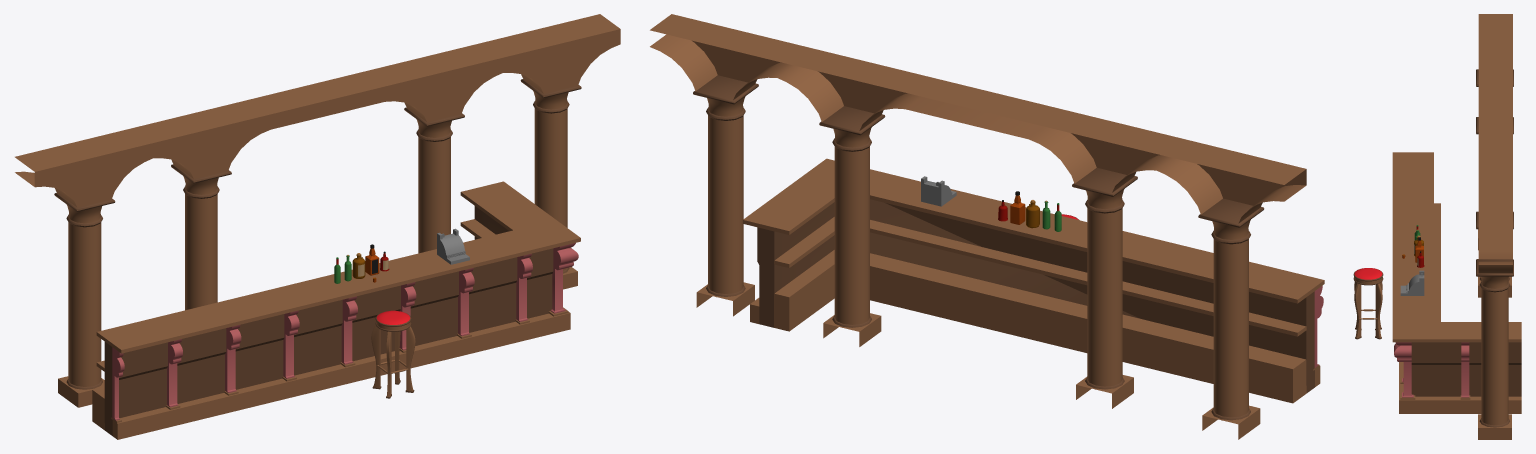
Rendered from SaloonInterior.fbx.
The picture shows the model from 3 angles, left to right: view 1: azimuth 30°, elevation 25°; view 2: azimuth 150°, elevation 25°; view 3: azimuth 270°, elevation 25°; orthographic projection. The views are drawn at different scales.
Visible parts, largest first — view 1: Counter, Pillars, Chair, Register; view 2: Pillars, Counter, Register; view 3: Counter, Pillars, Chair, Register.
Boxes of the visible parts, x1,y1,x2,y2 form: Counter: [92, 181, 580, 439]; Pillars: [15, 14, 620, 407]; Chair: [371, 310, 415, 398]; Register: [437, 228, 469, 264]; Pillars: [650, 14, 1306, 439]; Counter: [743, 158, 1324, 403]; Register: [921, 176, 956, 206]; Counter: [1392, 152, 1521, 413]; Pillars: [1476, 14, 1513, 439]; Chair: [1353, 268, 1383, 339]; Register: [1400, 270, 1424, 295].
Size of the model in its own units: 503 by 202 by 150.
